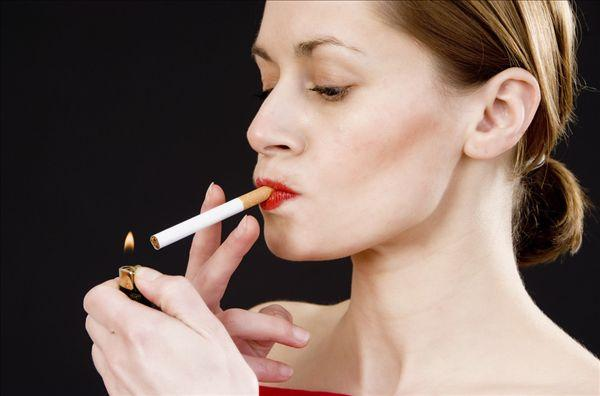smoke: (150, 185, 273, 253)
